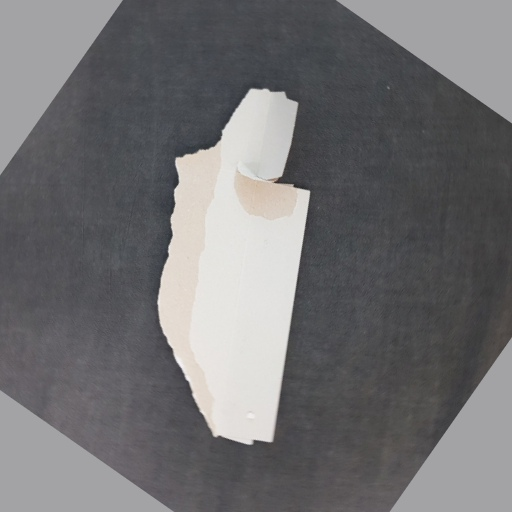Paper_3: (148, 83, 317, 467)
